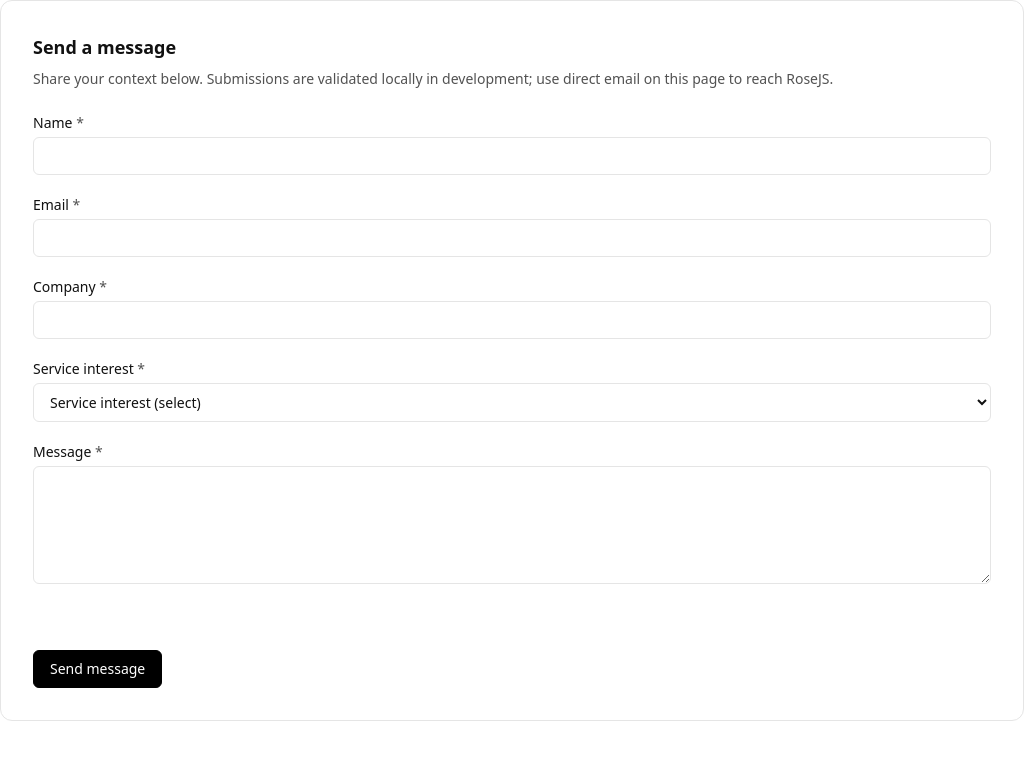
Test case: ContactForm › shows demo success when no endpoint is configured
This screenshot has width=1024, height=768.
Type "Jane Doe" into the field labelled "Name *".
click(512, 156); type("Jane Doe")  # box left=33, top=137, right=991, bottom=175
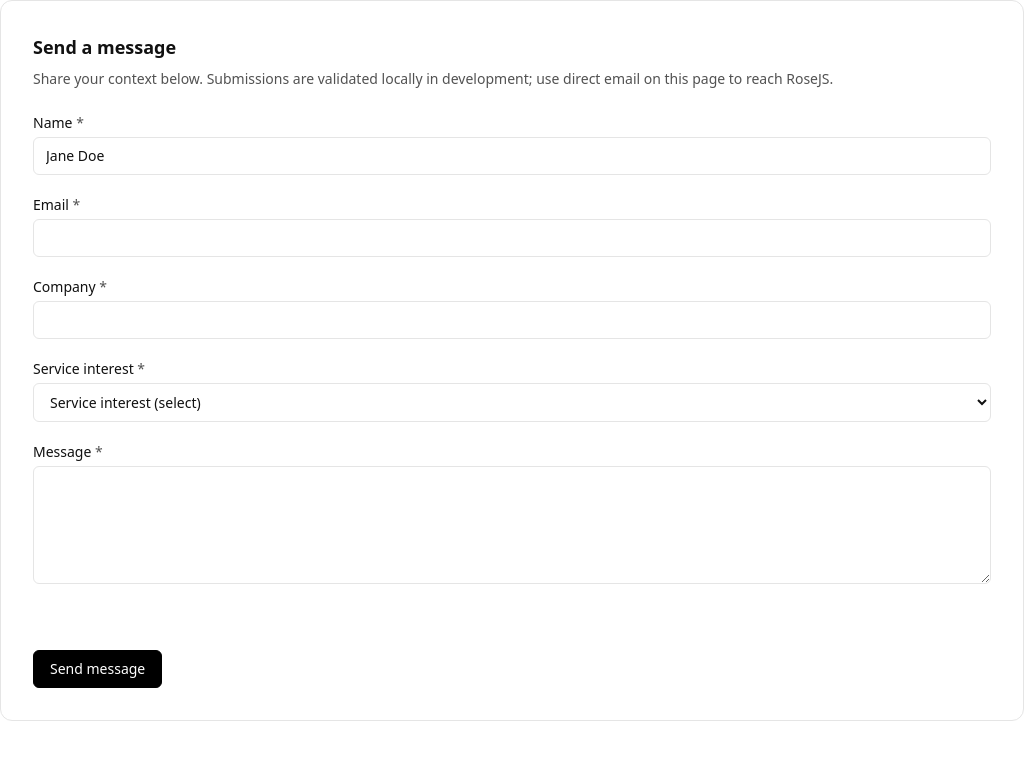
Type "jane@example.com" into the field labelled "Email *".
click(512, 238); type("jane@example.com")  # box left=33, top=219, right=991, bottom=257
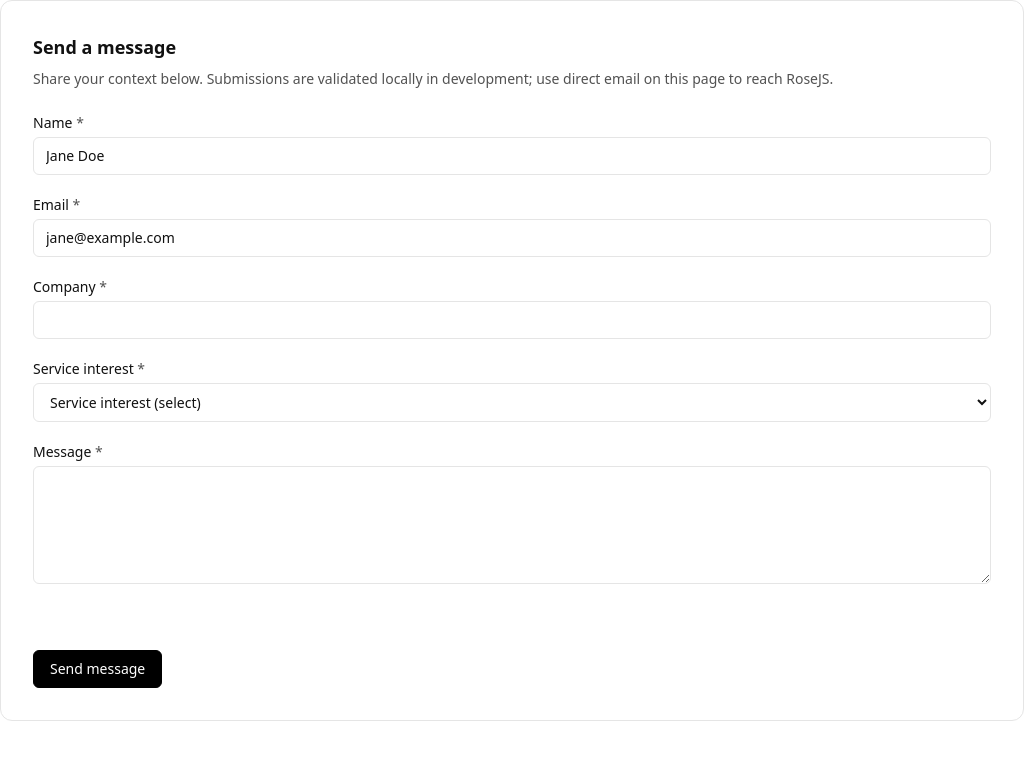
Type "Acme Health" into the field labelled "Company *".
click(512, 320); type("Acme Health")  # box left=33, top=301, right=991, bottom=339
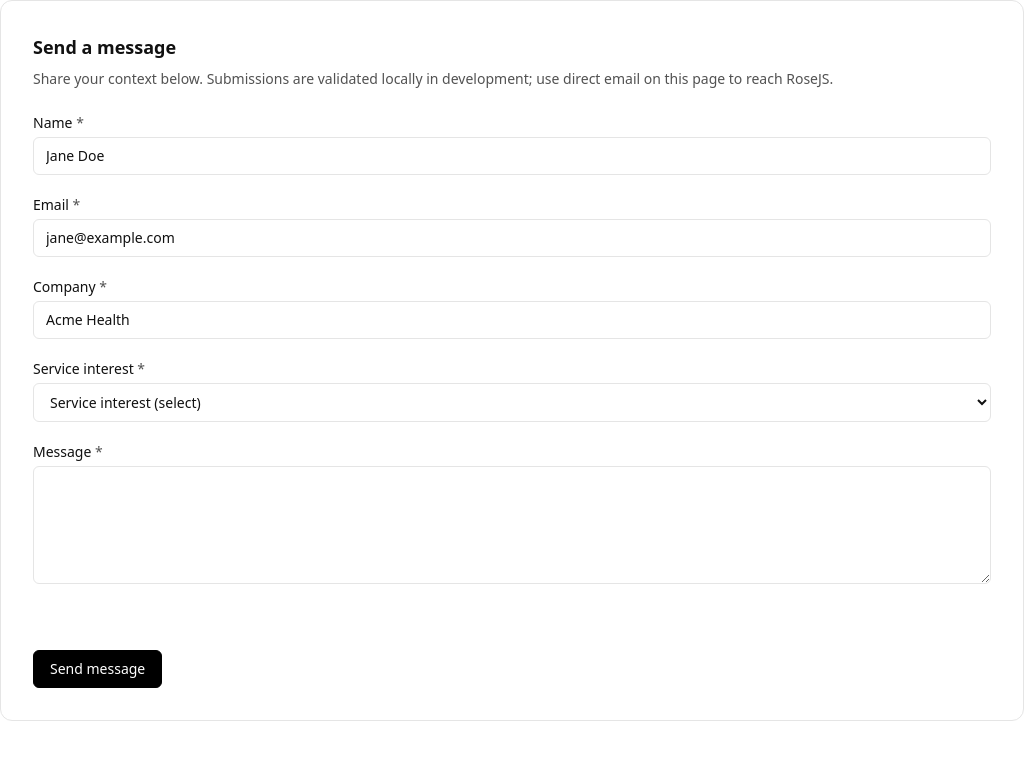
Select "Other / not sure yet" in the dropdown labelled "Service interest *" at point(512, 402), box left=33, top=383, right=991, bottom=422
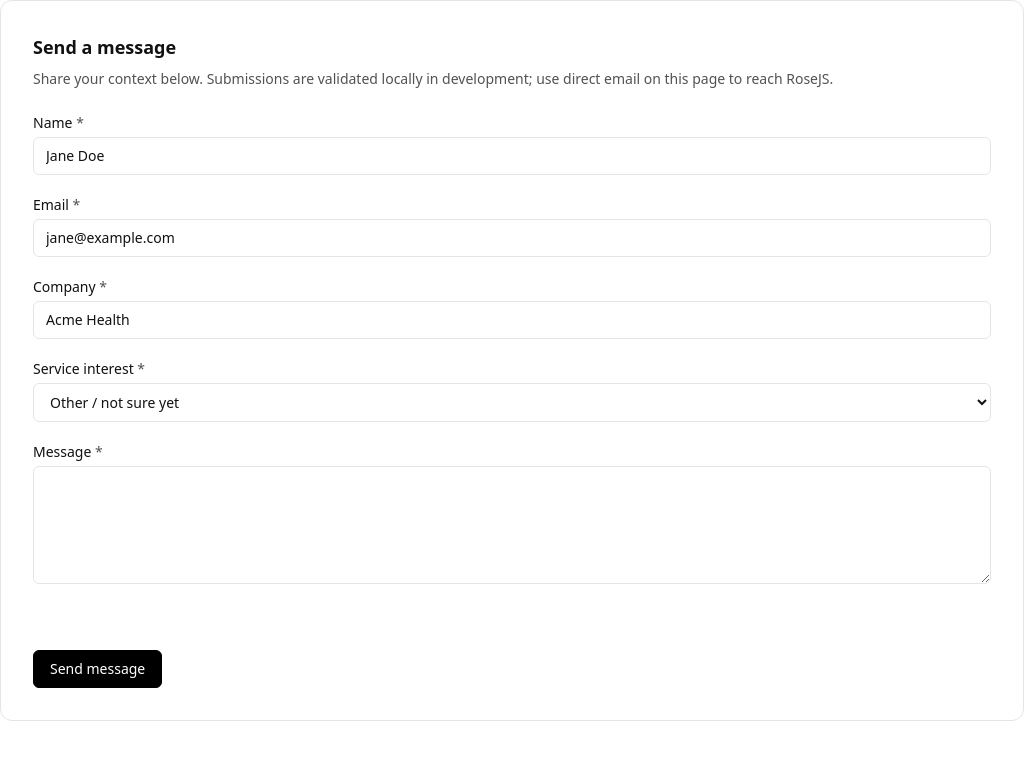
Type "Project context." into the text box labelled "Message *".
click(512, 525); type("Project context.")  # box left=33, top=466, right=991, bottom=584
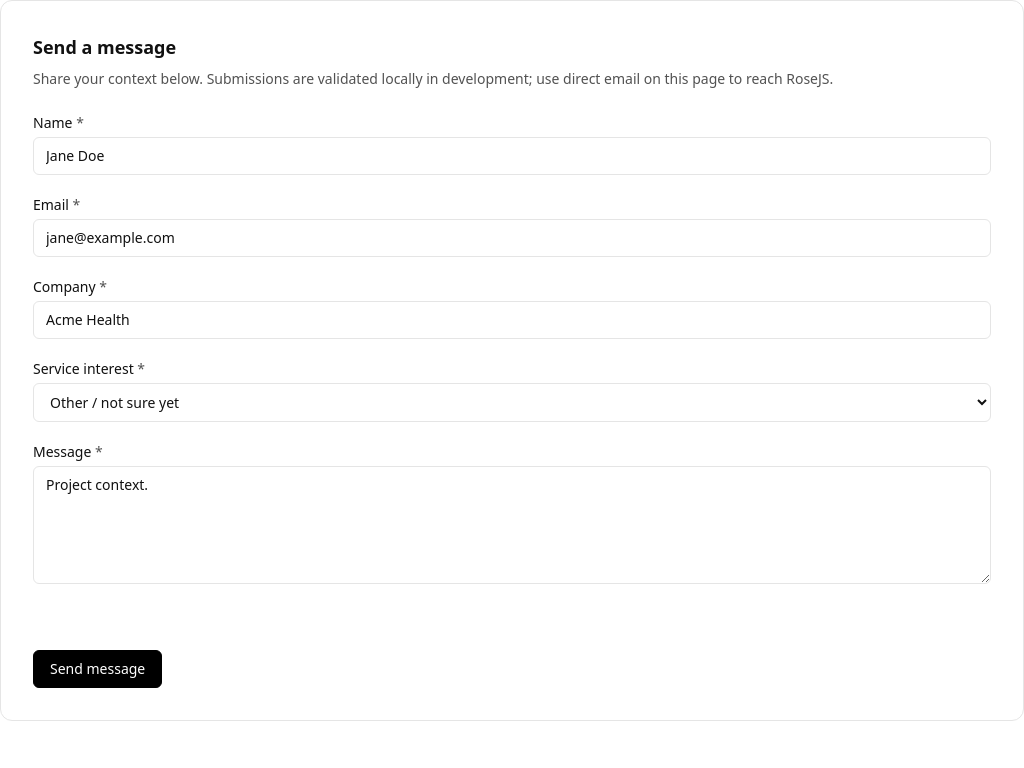
Click the button "Send message".
click(98, 669)  # box left=33, top=650, right=162, bottom=688
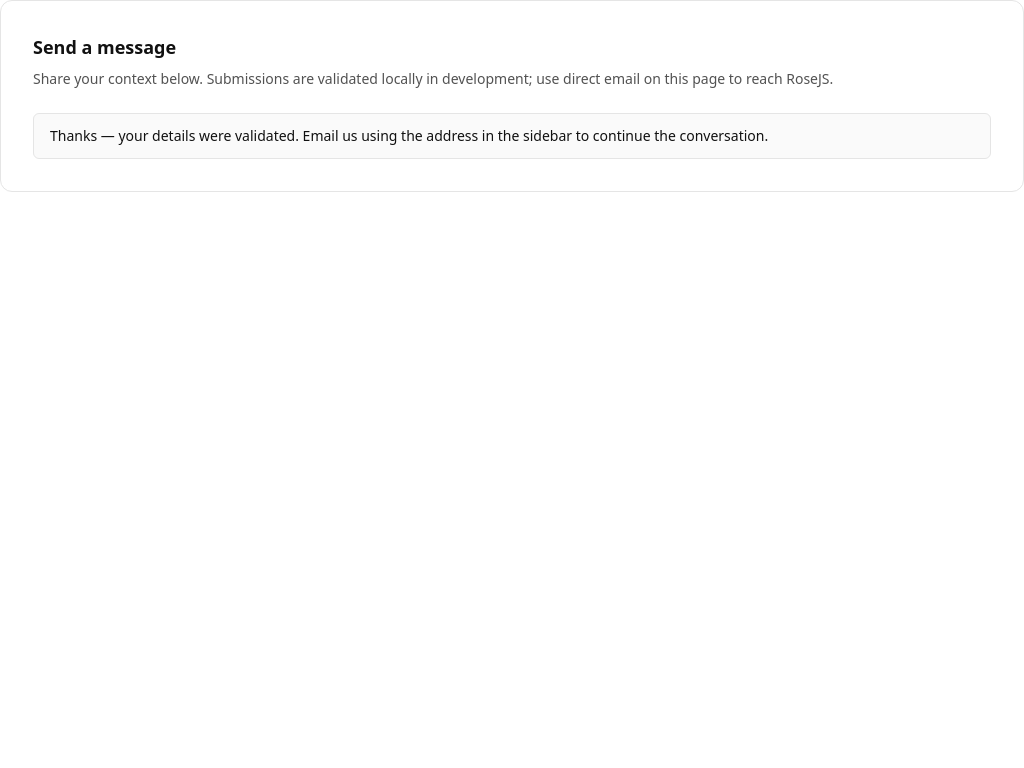
Result: the text "Thanks — your details were validated" is shown at left=50, top=126, right=768, bottom=145
